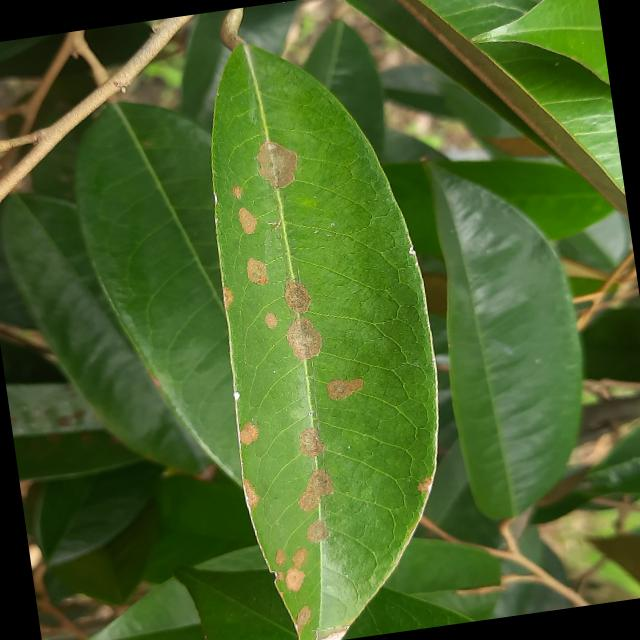Algal Leaf Spot: (173, 15, 483, 639)
